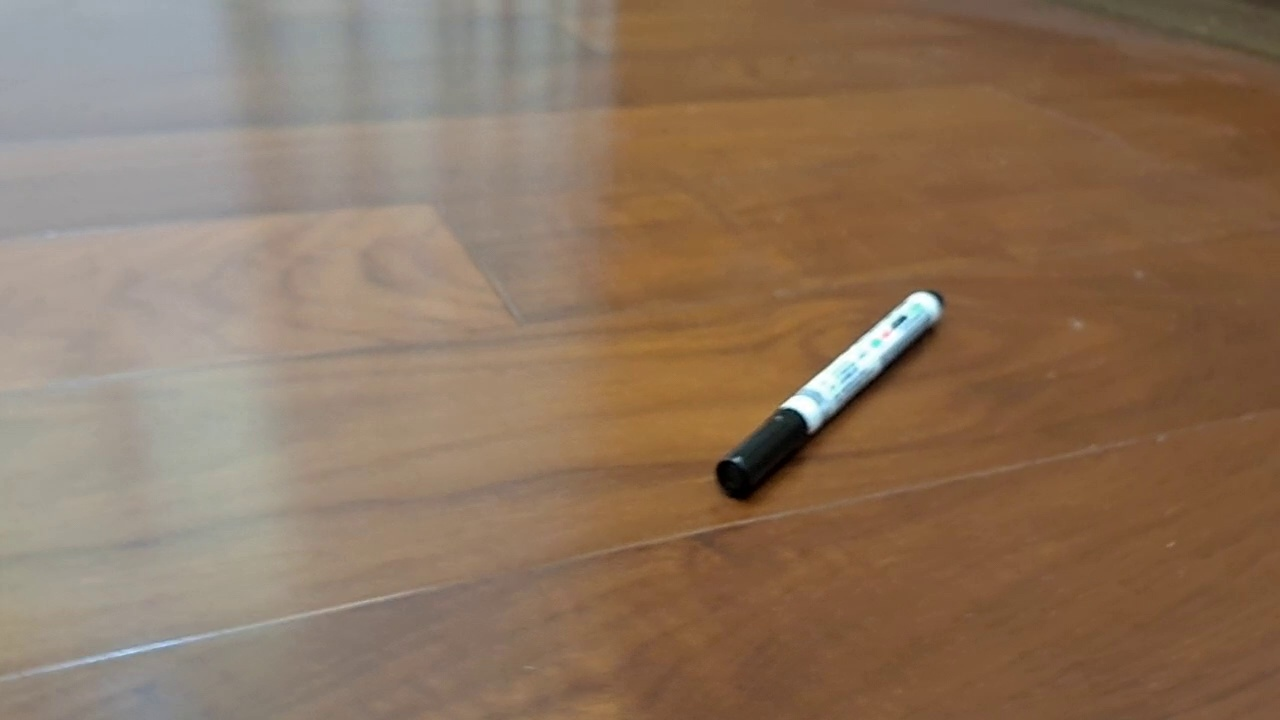pen: (716, 289, 945, 501)
